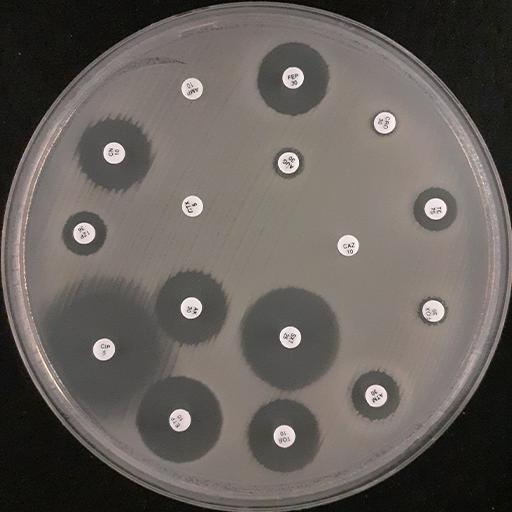disc: (73, 222, 96, 244), (422, 300, 445, 322), (365, 384, 387, 407), (273, 424, 295, 447), (282, 67, 304, 89), (374, 111, 396, 133), (103, 142, 125, 164), (425, 198, 447, 220), (337, 235, 359, 257), (93, 338, 115, 360), (279, 326, 301, 348), (169, 409, 191, 431), (182, 77, 203, 100), (278, 151, 299, 173), (182, 195, 203, 217), (181, 297, 202, 319)
